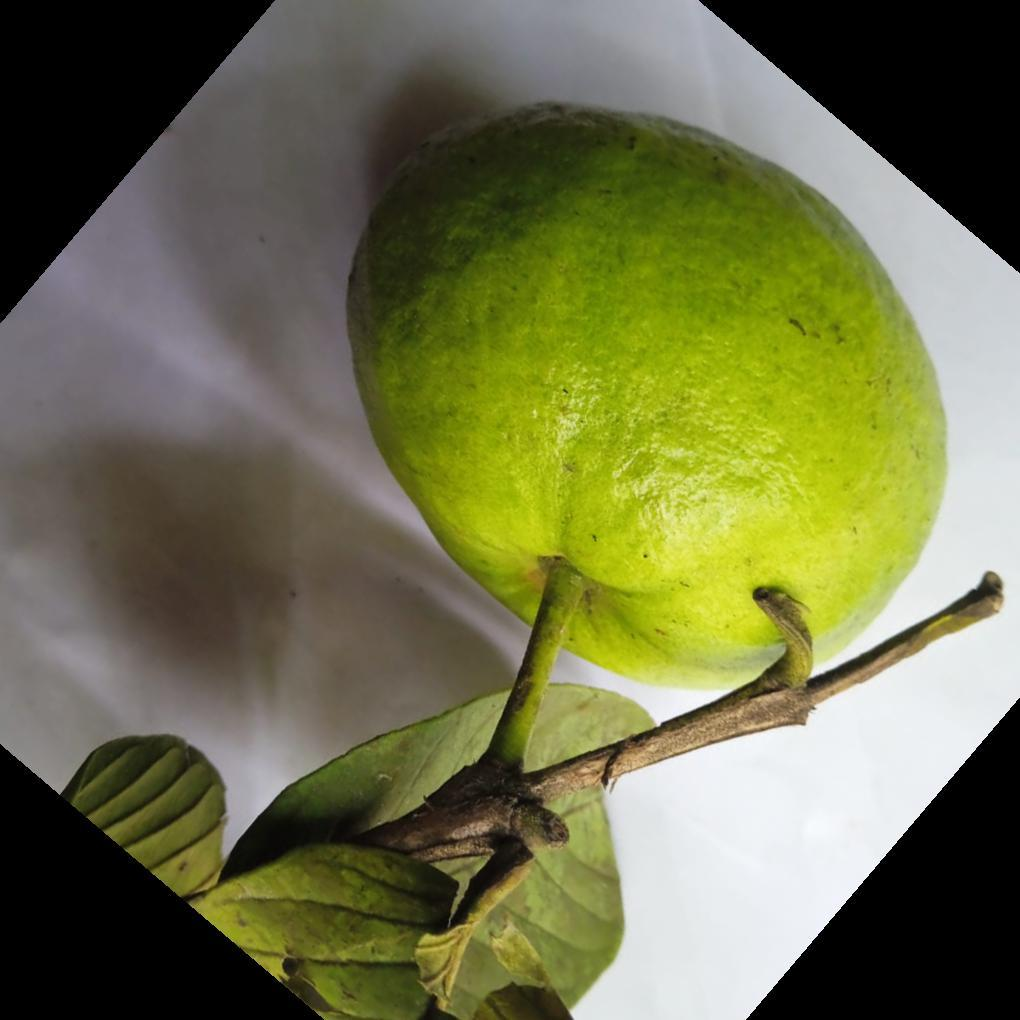FreshGuava: (343, 103, 951, 776)
